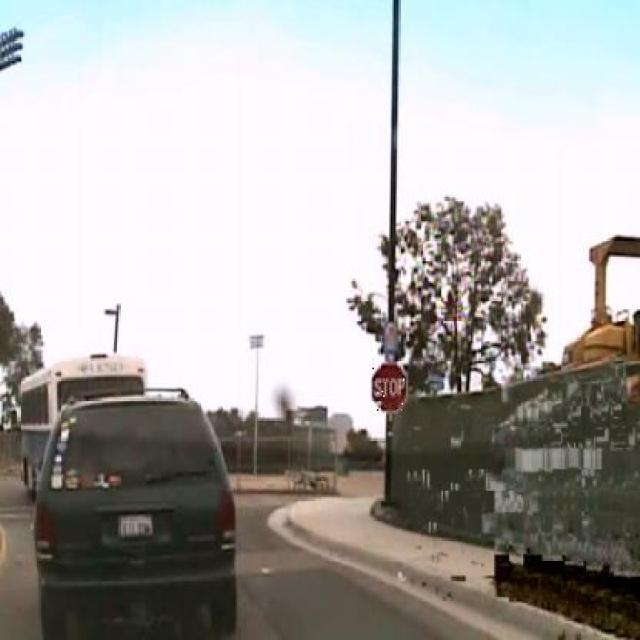stop: (370, 360, 408, 413)
